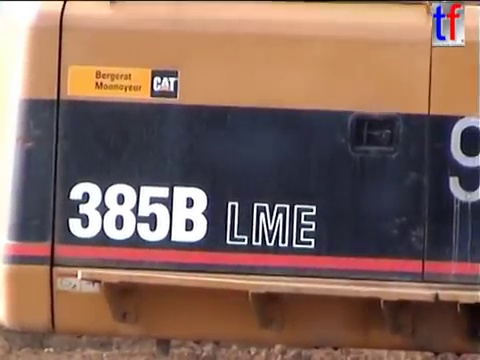excavator: (1, 1, 480, 356)
